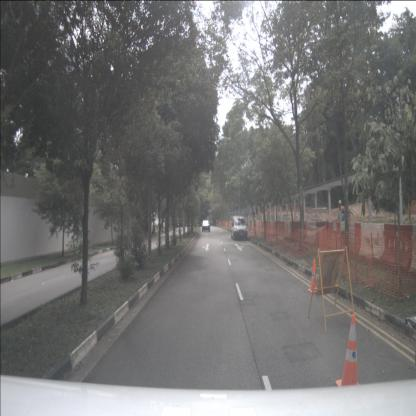barrier: (380, 223, 412, 272), (358, 223, 385, 261), (341, 222, 361, 256), (327, 221, 343, 250), (314, 221, 328, 245), (305, 221, 316, 244), (296, 222, 306, 243), (289, 221, 297, 241), (278, 221, 286, 237), (284, 221, 291, 239), (274, 221, 282, 236), (266, 220, 272, 234), (259, 220, 265, 233), (270, 221, 275, 235), (263, 220, 268, 233)
cone: (335, 314, 362, 390), (308, 258, 319, 293)
